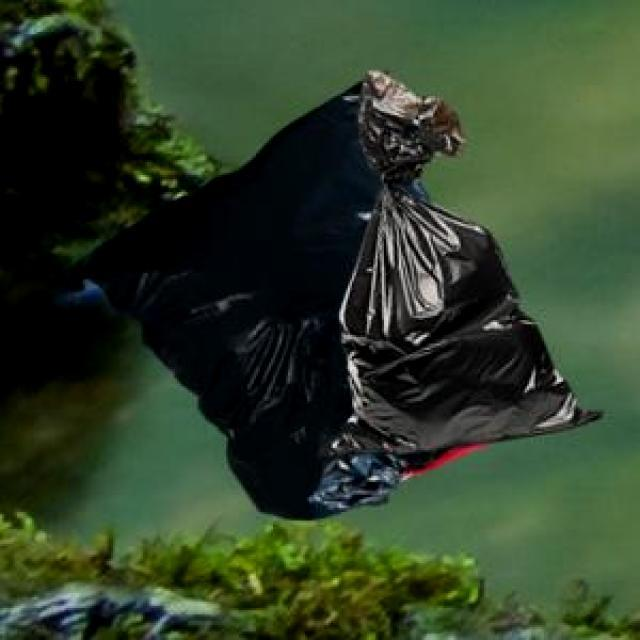Trashbag: (57, 78, 396, 530), (337, 65, 611, 464)
